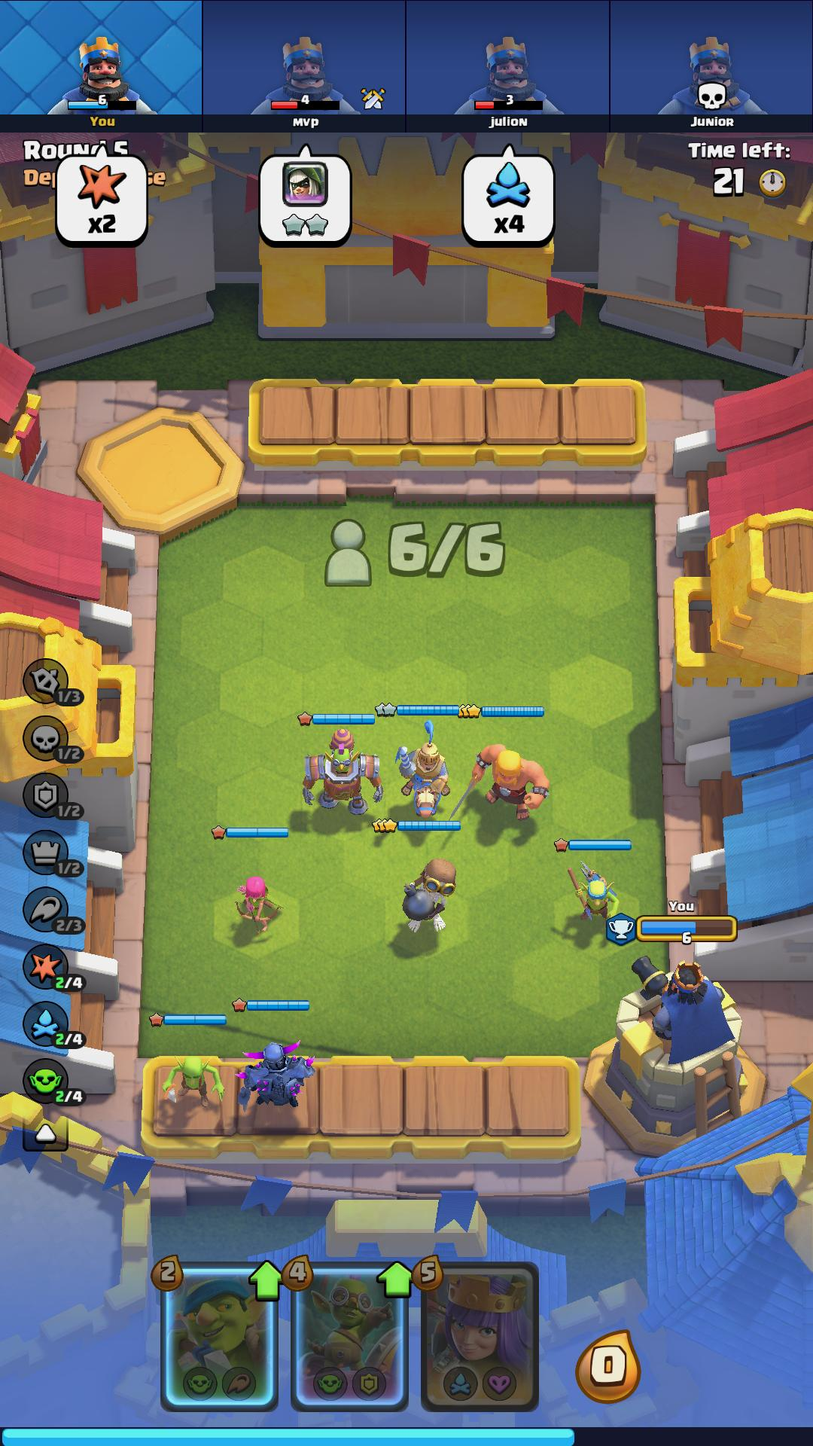archer: (227, 863, 291, 936)
barbarian: (459, 732, 553, 823)
bomber: (385, 849, 465, 932)
goblin: (145, 1050, 227, 1116)
hand-machine: (294, 1264, 404, 1409)
hand-queen: (424, 1263, 537, 1407)
hand-spear: (163, 1264, 276, 1408)
machine: (287, 727, 389, 816)
pekka: (232, 1034, 322, 1116)
prince: (386, 718, 459, 823)
spear: (553, 860, 629, 924)
upgrade: (248, 1258, 285, 1300), (376, 1257, 413, 1297)
